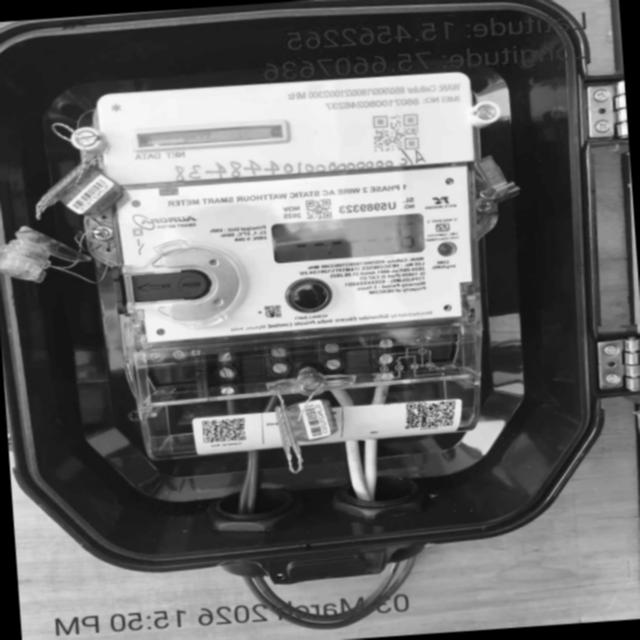meter: (98, 70, 485, 348)
